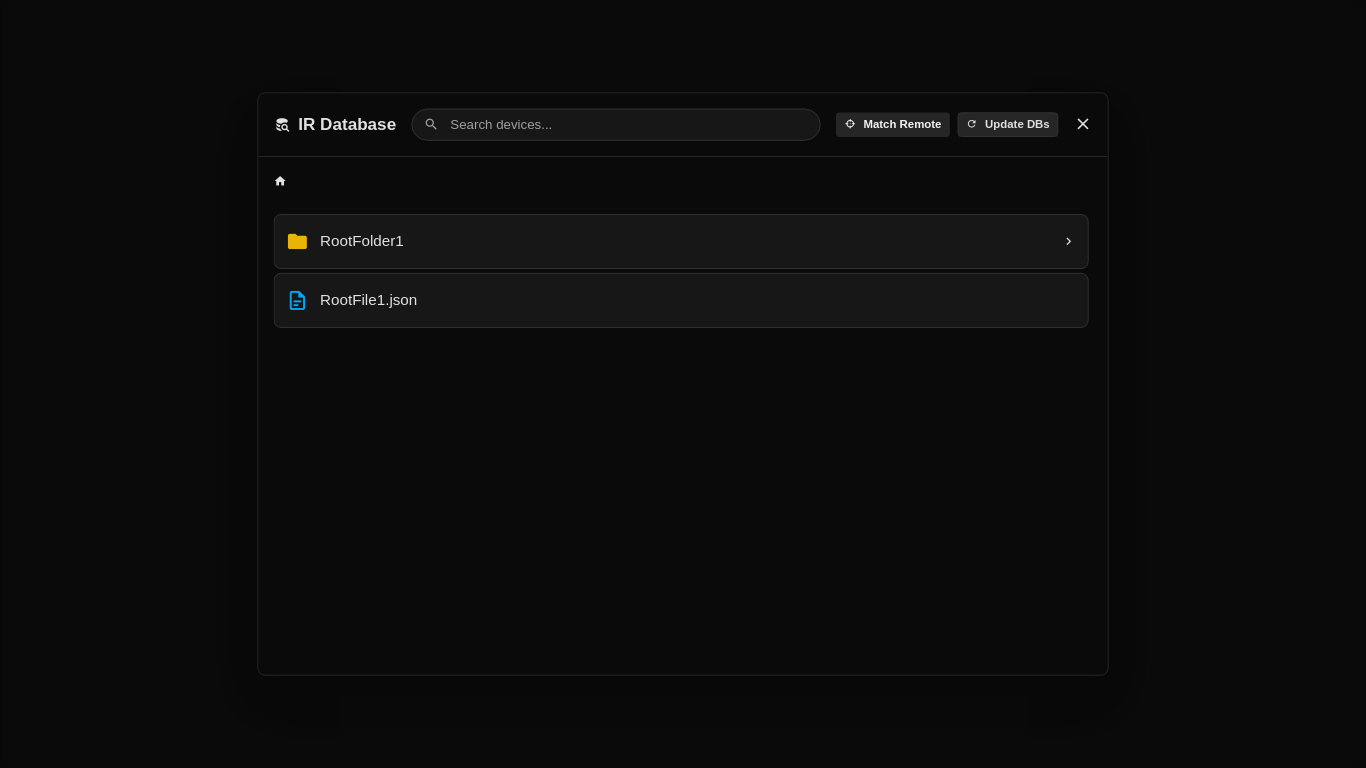
it: IrDbPicker.vue › navigates from search result to file view and then back to root
Type "searchterm" into the field with placeholder "Search devices...". click: (631, 124)
box: [443,109,820,140]
Wait 400 ms
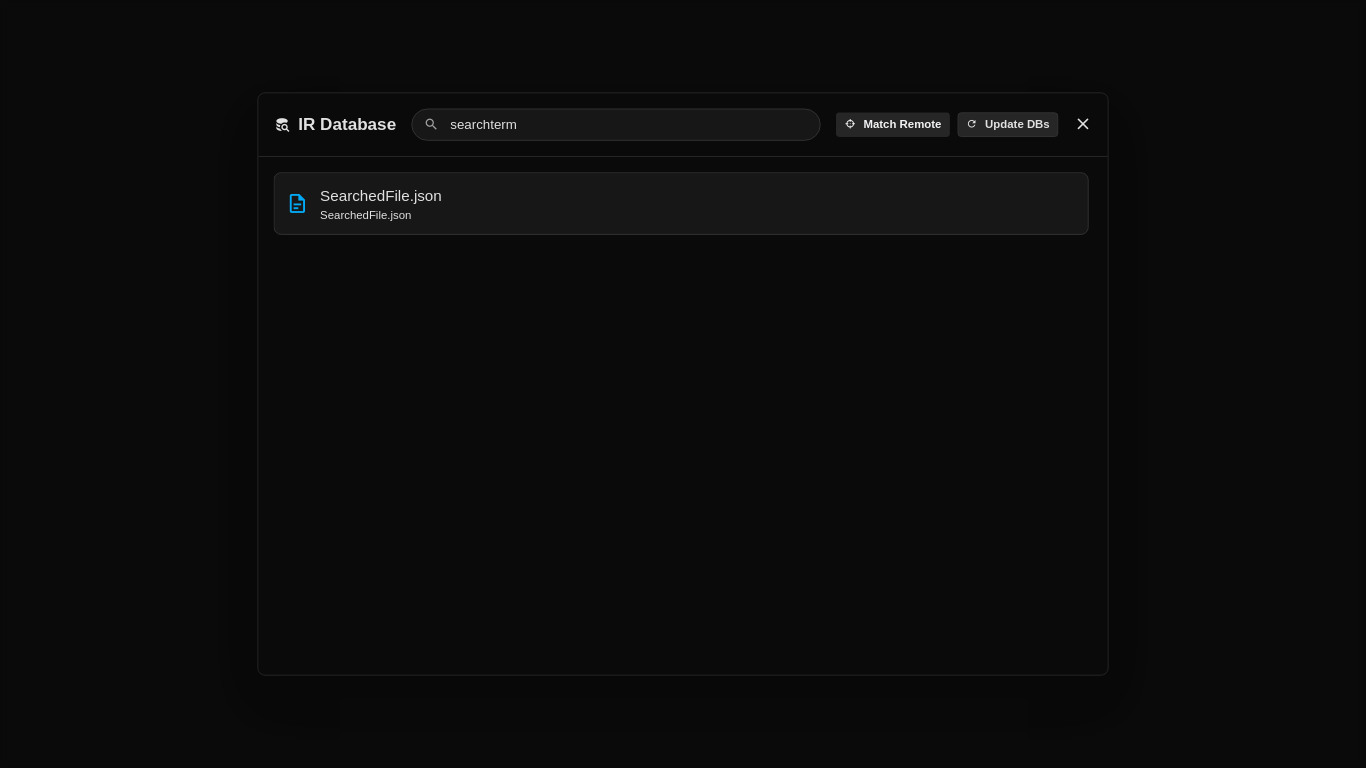
Now the text "SearchedFile.json" is shown, box [320,184,442,207]
Now the element with class "items-center" that starts with "SearchedFile.json" is shown
Click the element with class "items-center" that starts with "SearchedFile.json". click: (681, 203)
box: [274,172,1089,235]
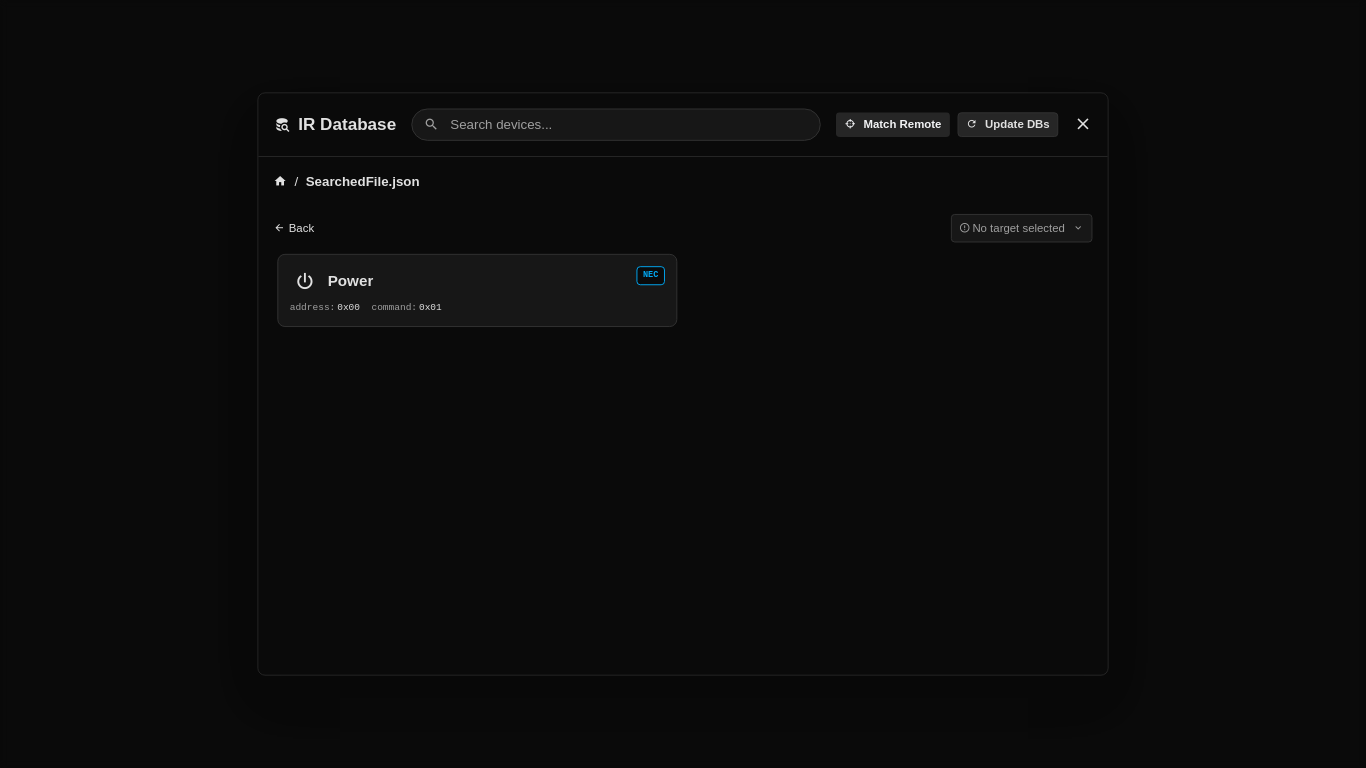
Now the text "Power" is shown, box [328,270,373,293]
# Click "Back" button
Click the icon with class "mdi-arrow-left". click: (279, 228)
box: [274,220,285,236]
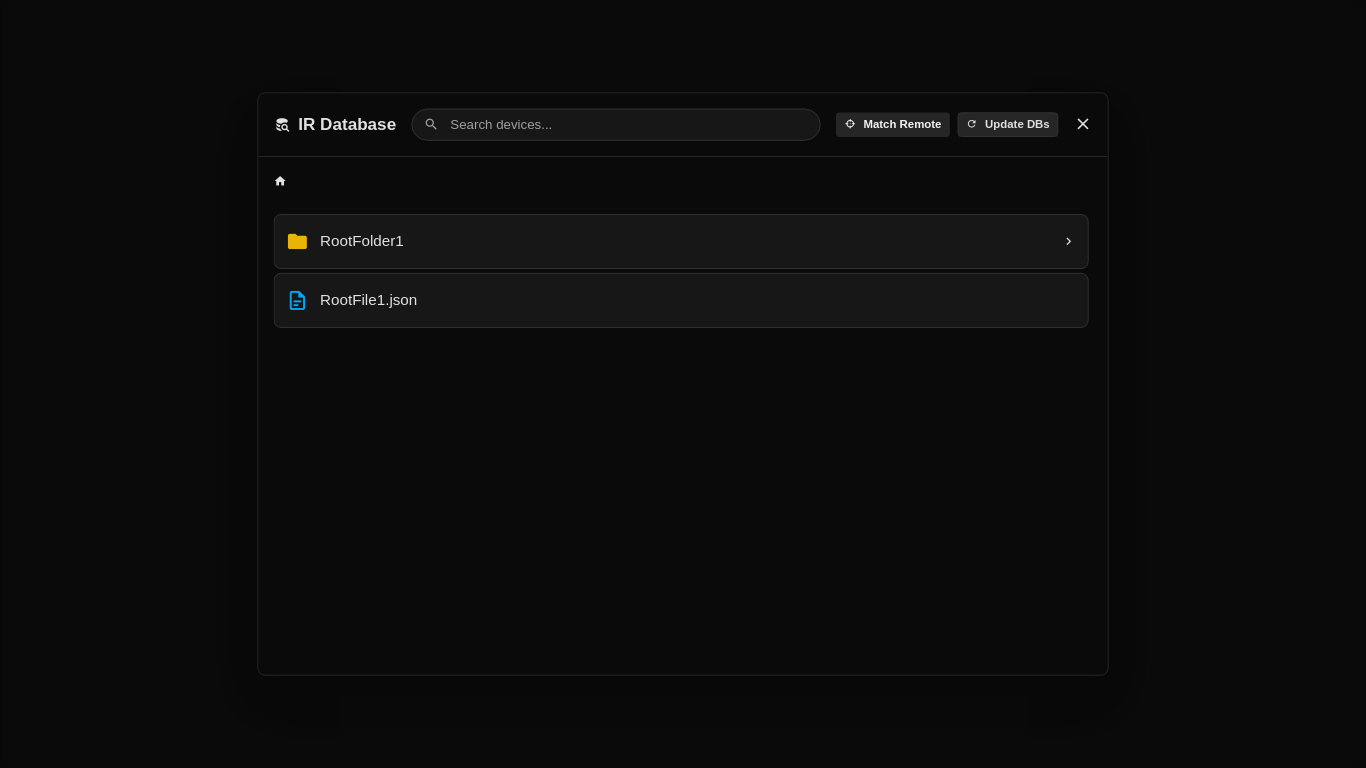
Now the text "RootFolder1" is shown, box [320,230,404,253]
Now the text "RootFile1.json" is shown, box [320,289,417,312]
Now the text "Power" is gone
